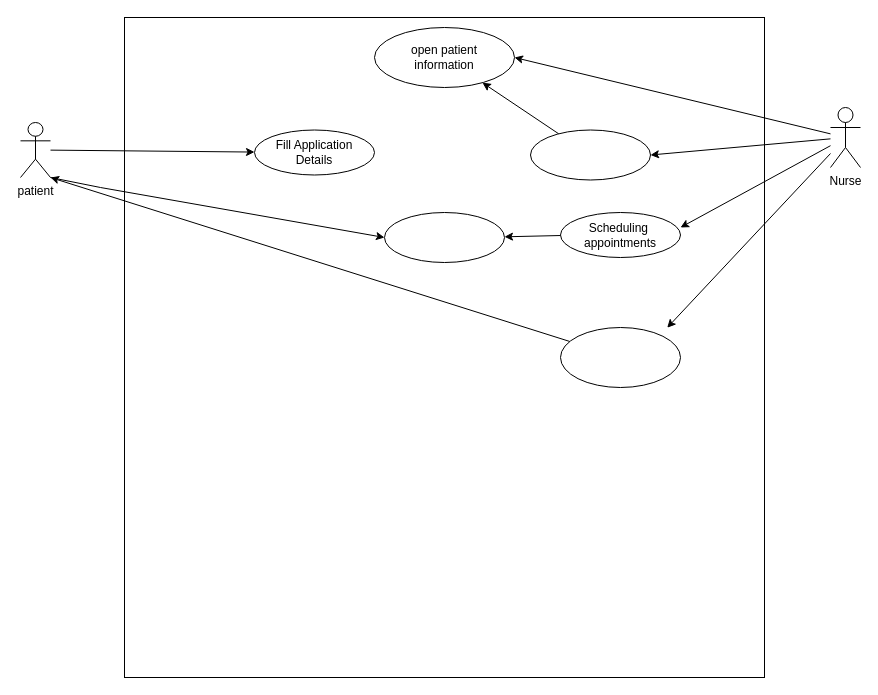
The diagram is 878 pixels wide and 695 high, and some of its shapes have lost their labels. Each missing label, with the centre of its shape:
Appointment booking: the point at 444,237
Sending Reminder postcard: the point at 620,357
Stores Information: the point at 590,154
